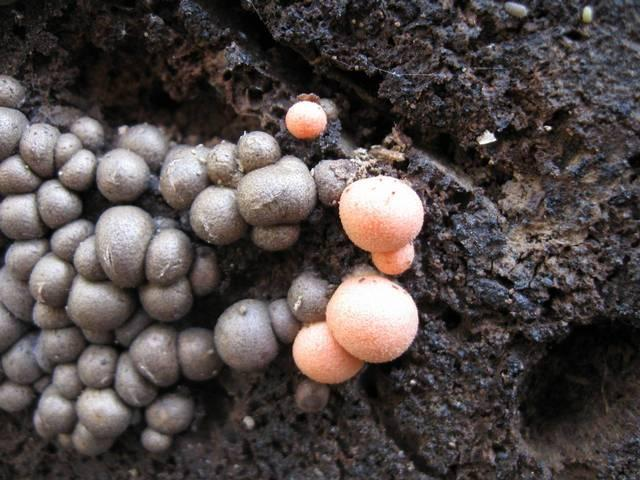Non-edible Mushroom: (0, 68, 315, 472), (337, 173, 425, 274), (324, 273, 419, 363), (212, 297, 279, 372), (291, 320, 364, 384), (284, 99, 327, 140)
